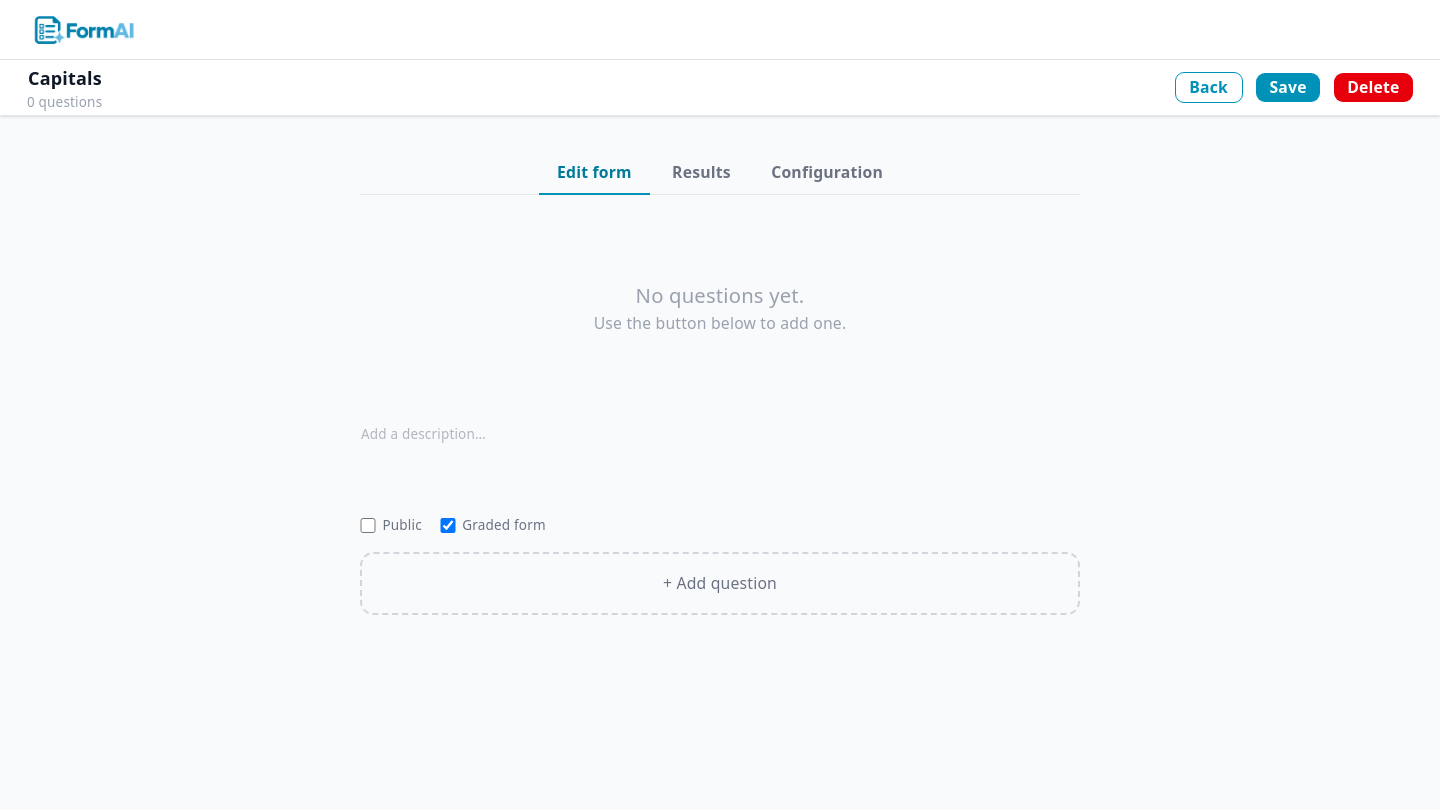
it: FormEditorPage › reflects the stored flag on the Configuration tab after load and after save
Click the tab "Configuration" at coordinates (827, 174), box [753,152,901,195]
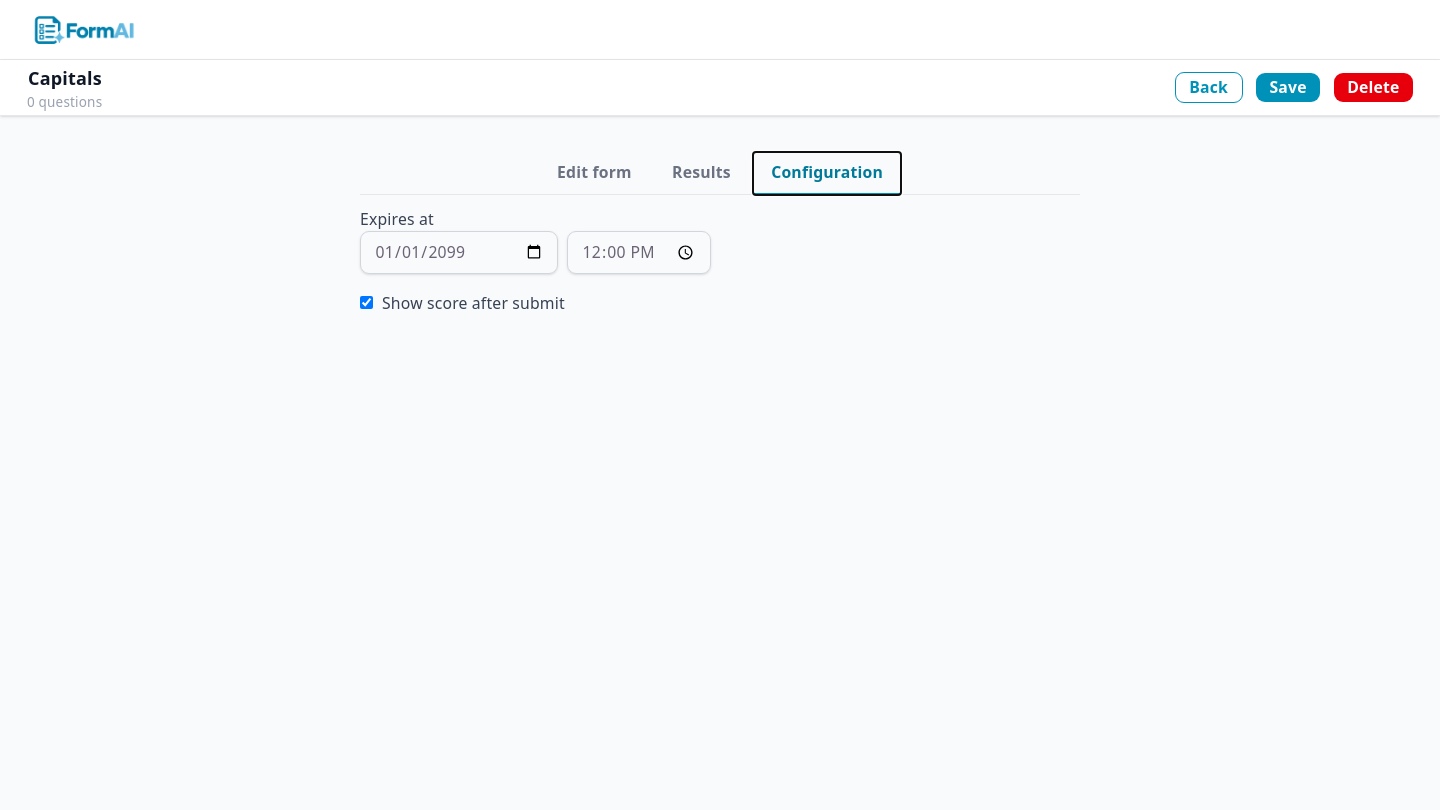
Result: the checkbox labelled "Show score after submit" is checked at [360,296,373,309]
Click the button "Save" at coordinates (1288, 87), box [1256,73,1320,102]
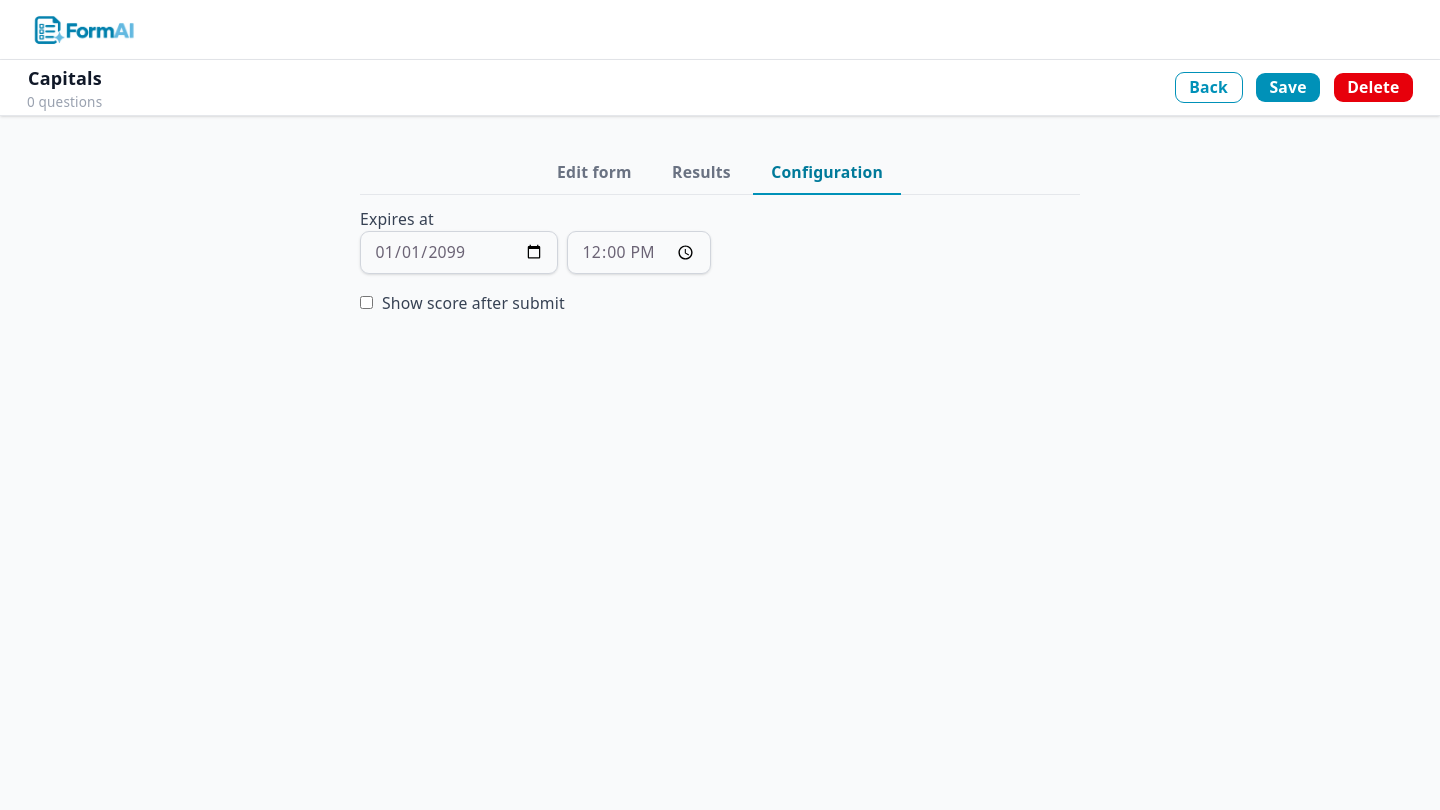
Result: the checkbox labelled "Show score after submit" is not checked at [360,296,373,309]
